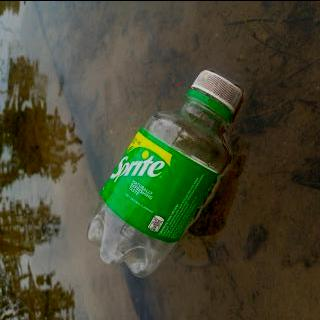bottle: (84, 68, 245, 278)
